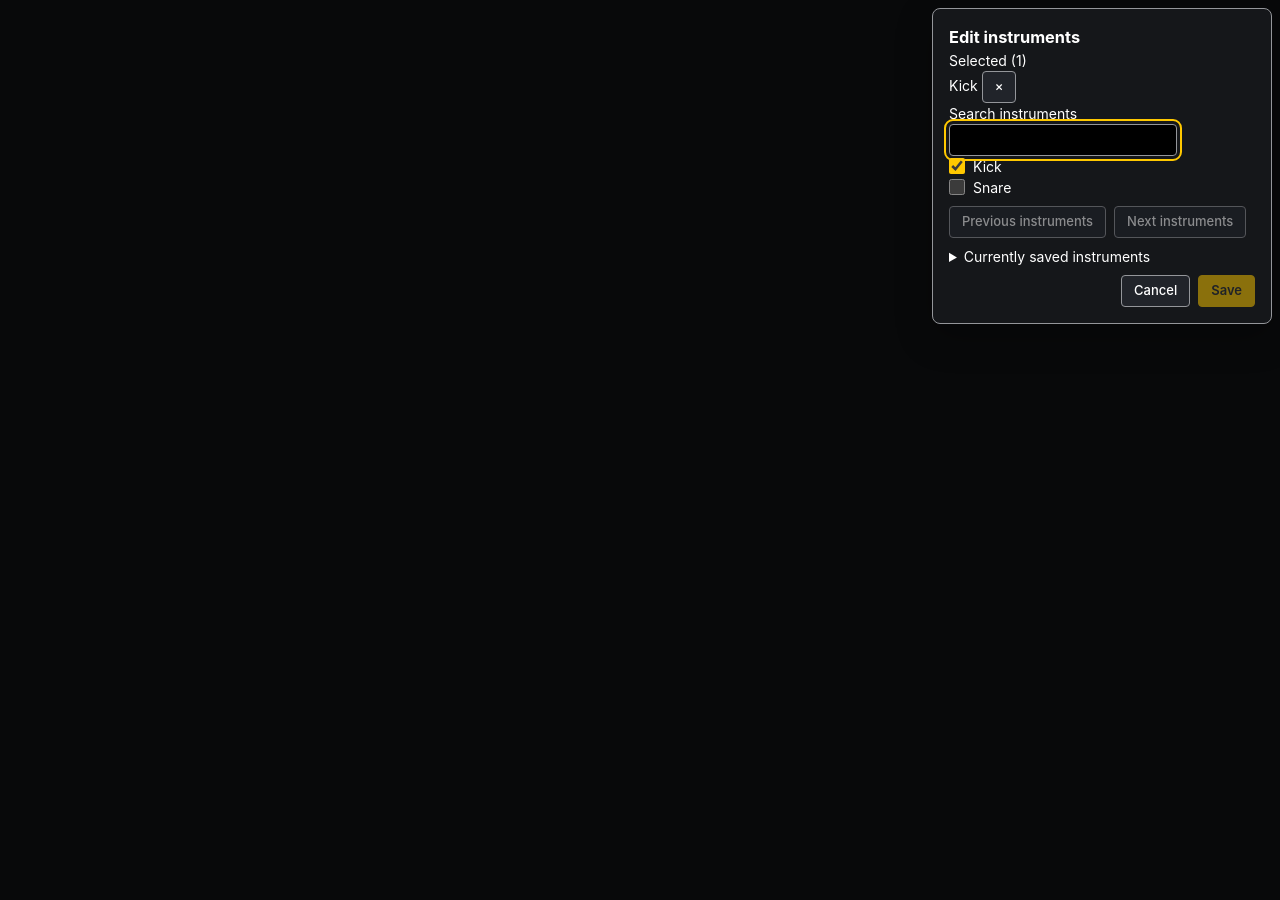
Test: a stale save preserves edits and requires reloading current assignments before retry
Click the checkbox labelled "Snare".
click(957, 187)  # box [949,179,965,195]
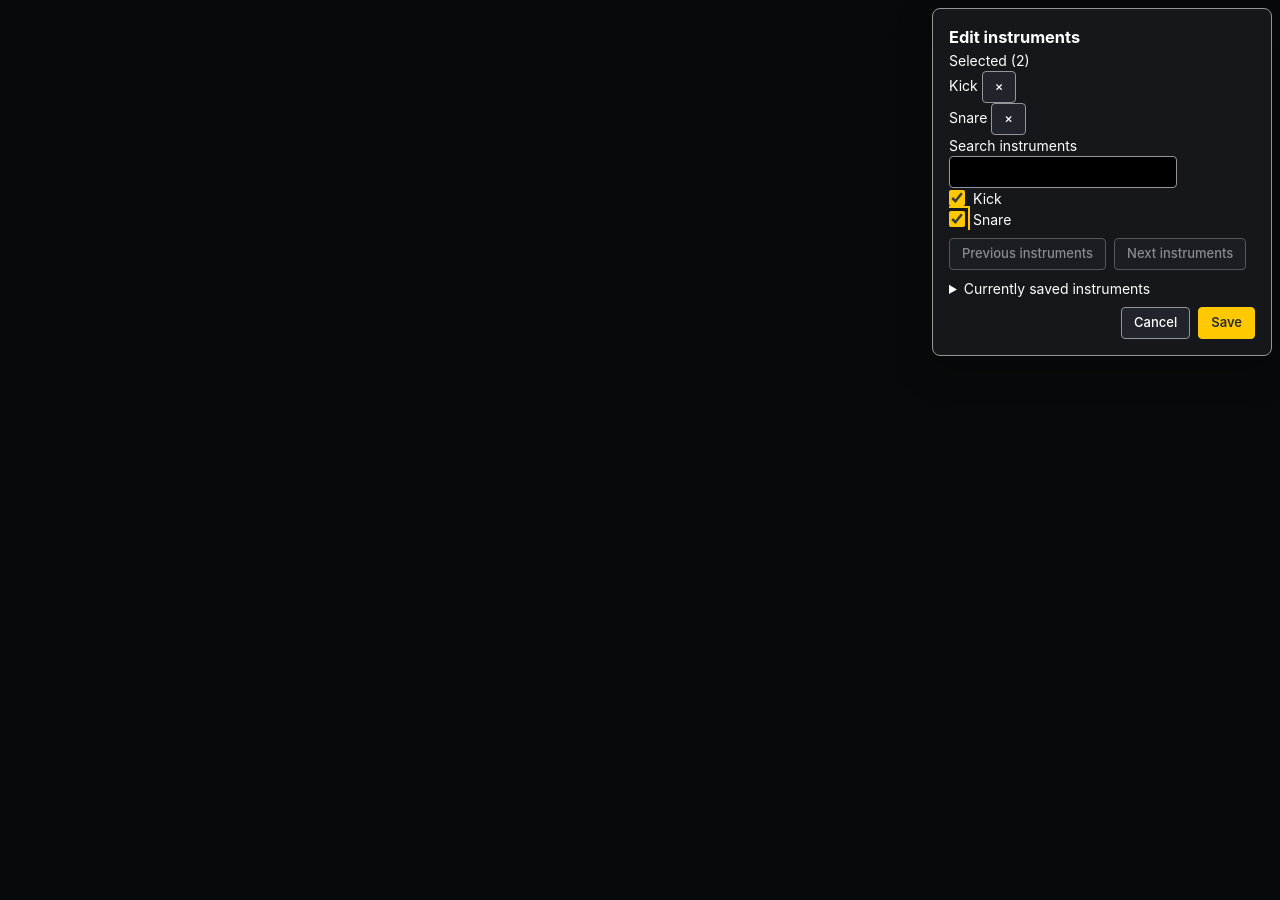
Click the button "Save".
click(1227, 323)  # box [1198,307,1255,339]
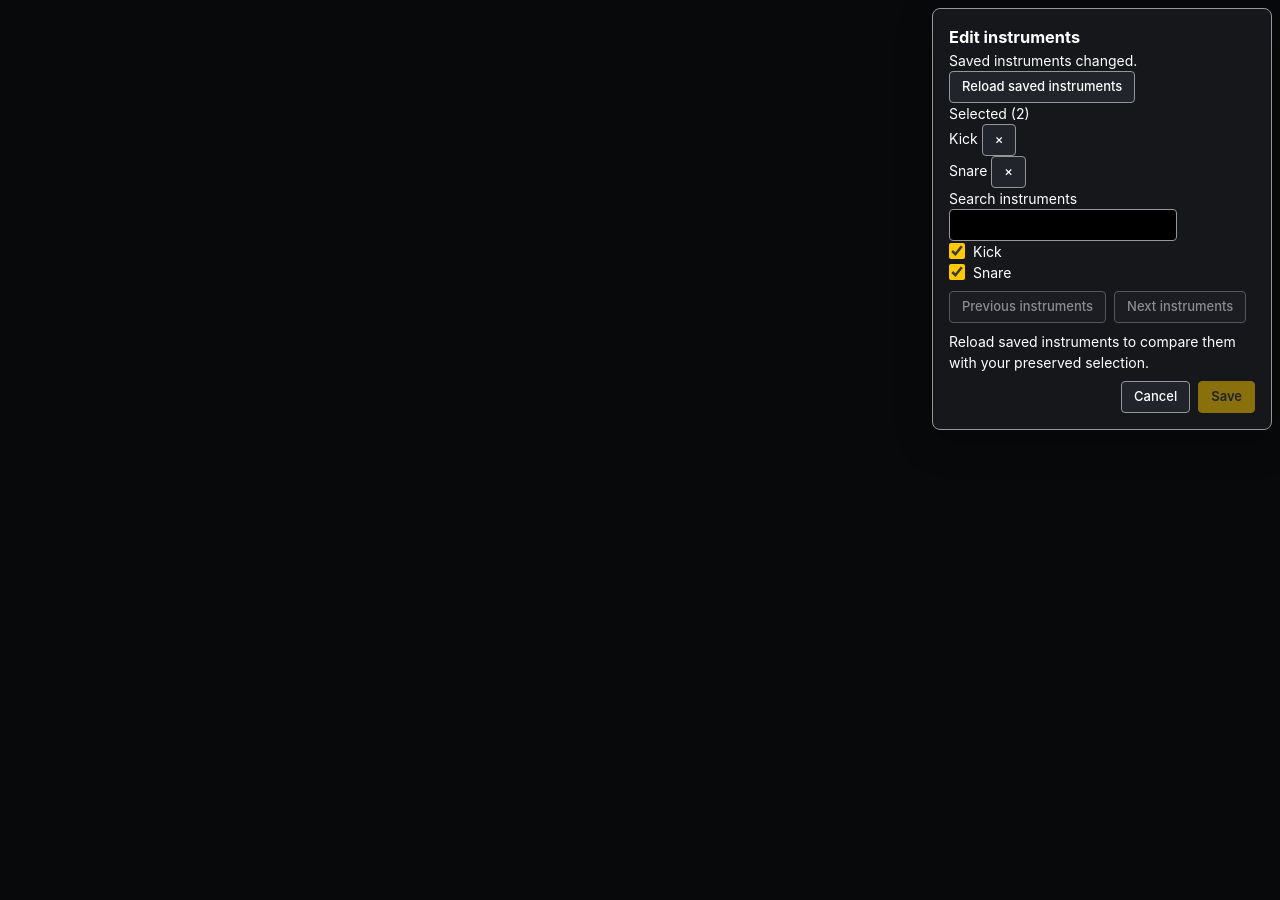
Expected: the message shows "Saved instruments changed.", [949,52,1137,69]
Expected: the button "Save" is disabled, [1198,381,1255,413]
Click the button "Reload saved instruments".
click(1042, 87)  # box [949,71,1135,103]
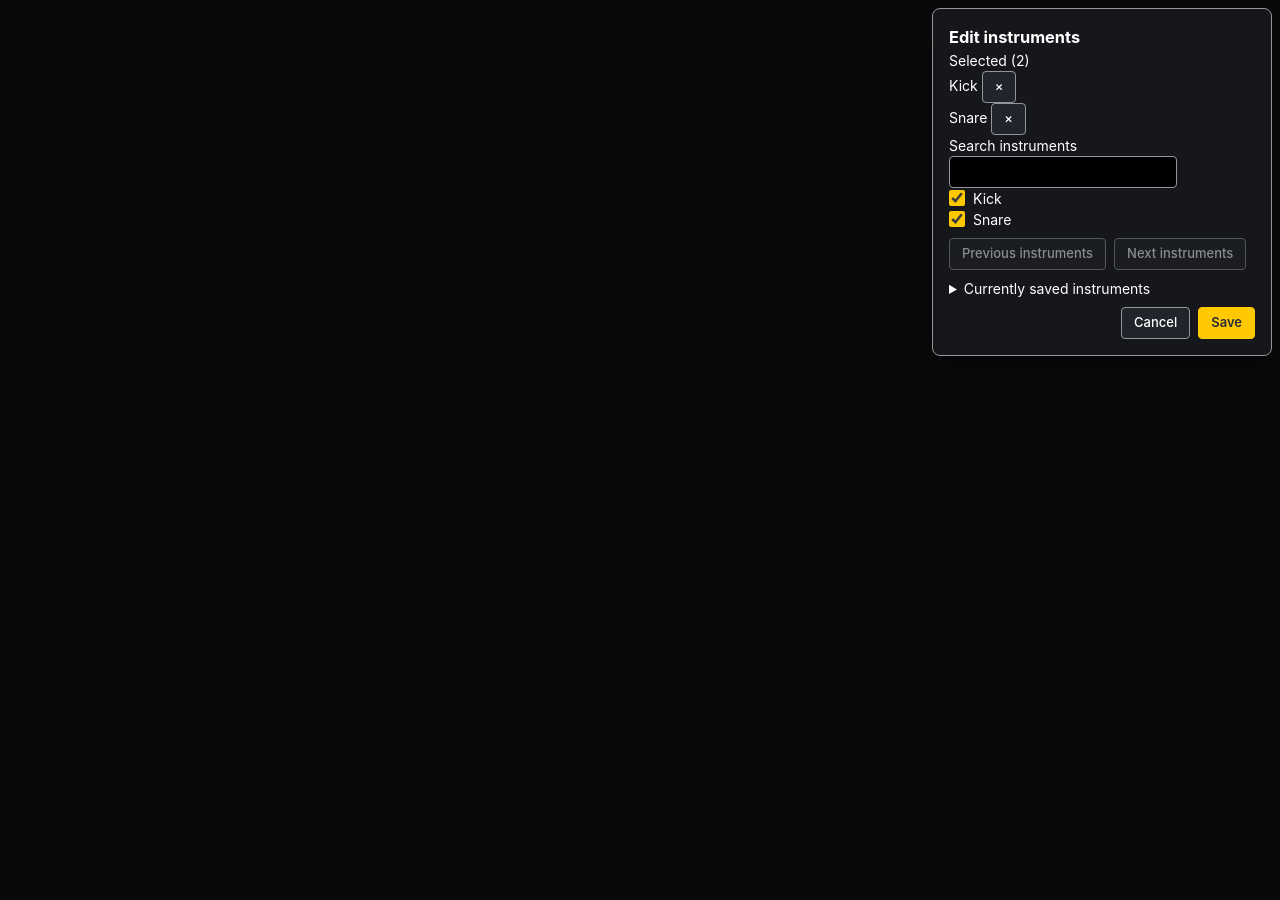
Expected: the list item "Snare" is shown, [949,109,987,126]
Expected: the button "Save" is enabled, [1198,307,1255,339]
